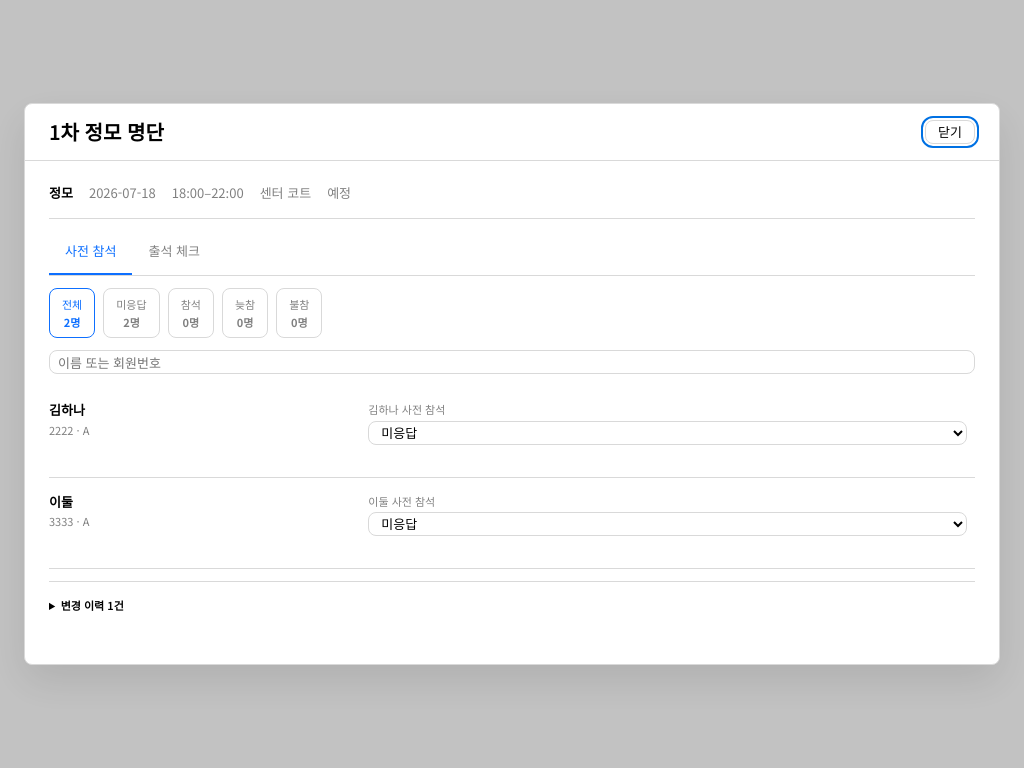
Test case: MeetingRosterModal › keeps the search query across tabs, resets status to all, and can clear a filtered empty state
Type "김하나" into the search field named "명단 회원 검색" at coordinates (512, 362), box left=49, top=350, right=975, bottom=374
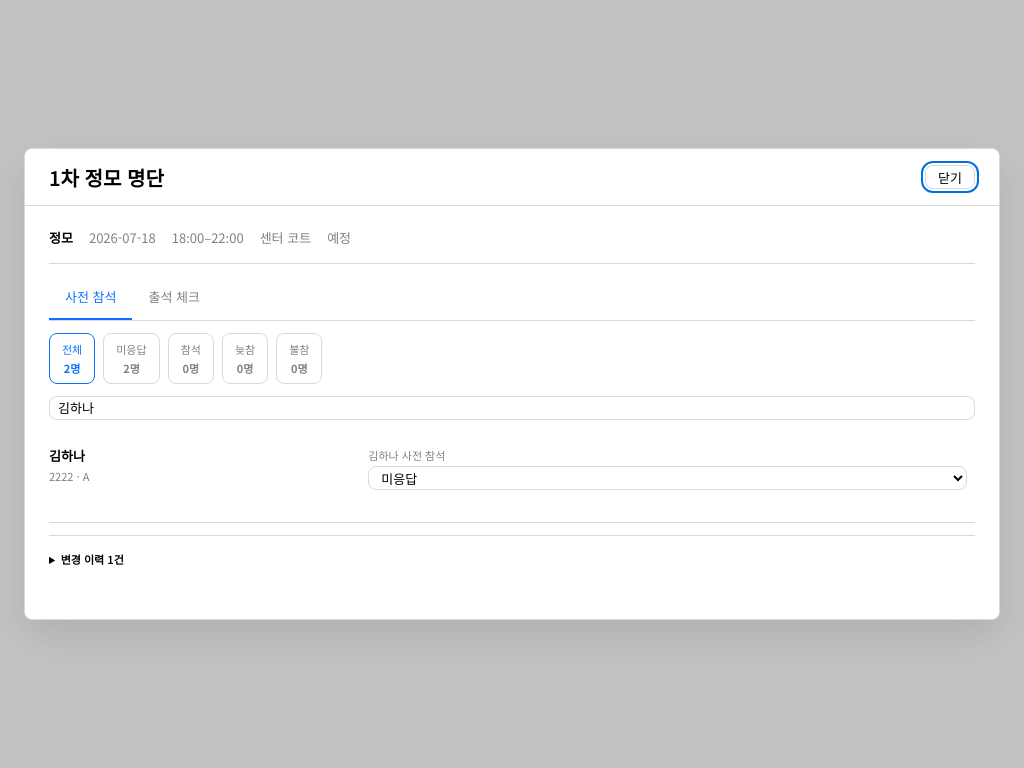
Click the button with aria-label "참석 0명 필터" at coordinates (191, 359), box left=168, top=333, right=214, bottom=384
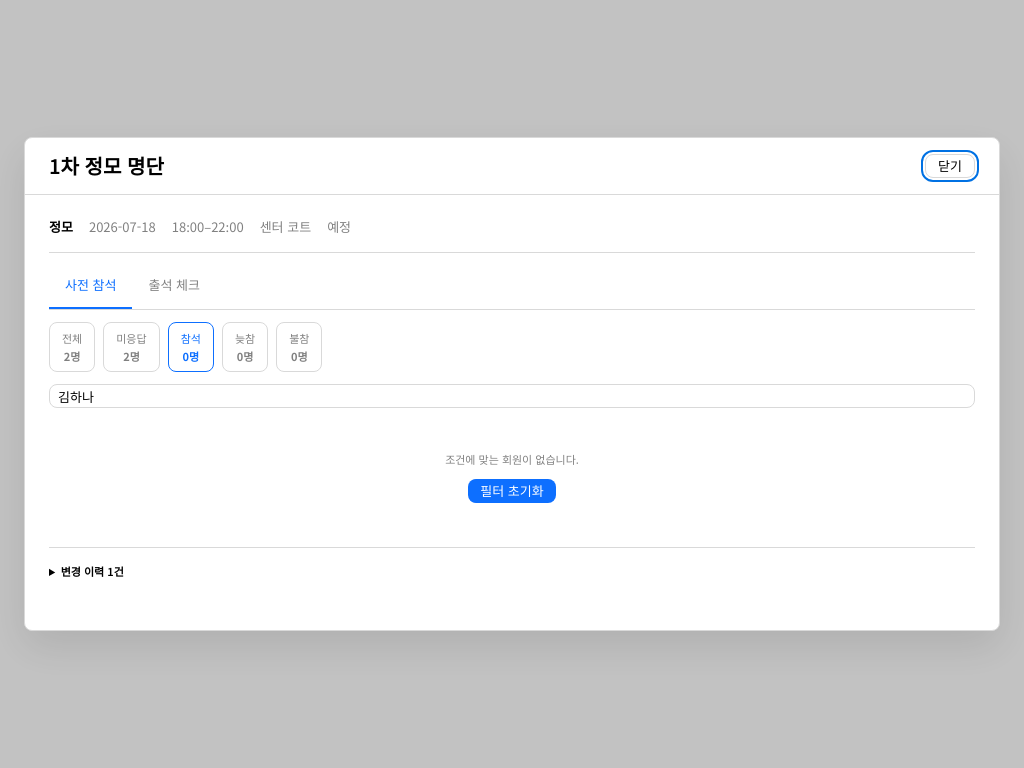
Now the text "조건에 맞는 회원이 없습니다." is shown, box left=445, top=451, right=579, bottom=467
Click the tab "출석 체크" at coordinates (174, 287), box left=132, top=265, right=216, bottom=309
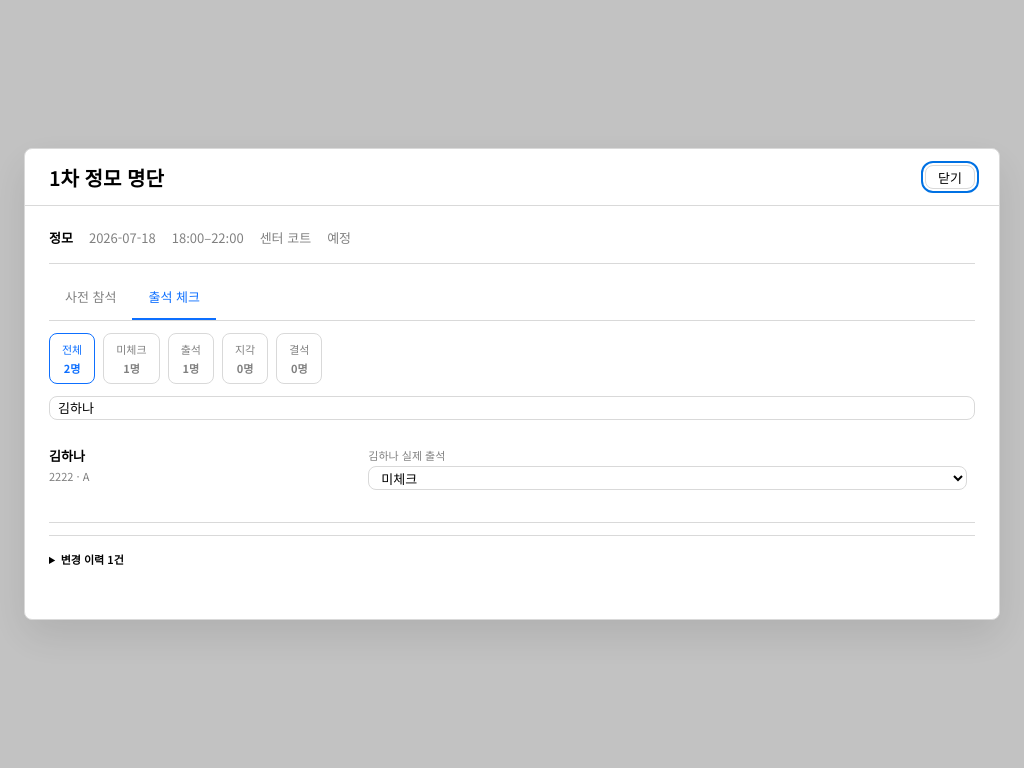
Now the element named "김하나 실제 출석 행" is shown, box left=49, top=432, right=975, bottom=523
Replace the text in the search field named "명단 회원 검색" with "없는 회원" at coordinates (512, 408), box left=49, top=396, right=975, bottom=420
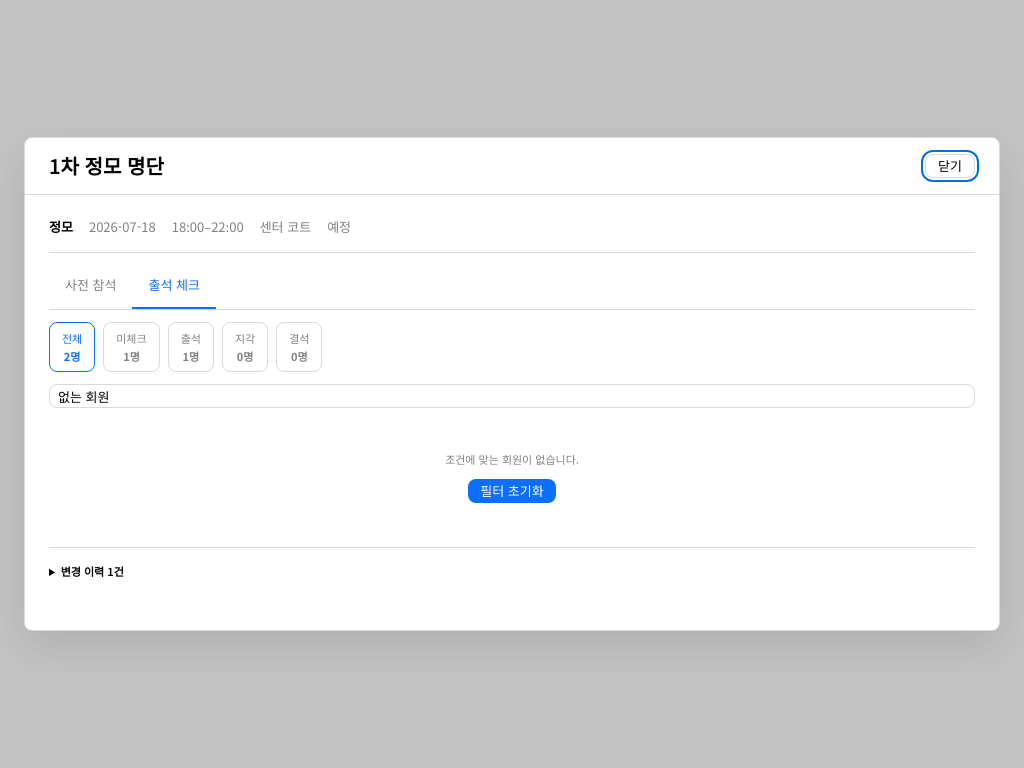
Now the text "조건에 맞는 회원이 없습니다." is shown, box left=445, top=451, right=579, bottom=467
Click the button "필터 초기화" at coordinates (512, 491), box left=468, top=479, right=556, bottom=503
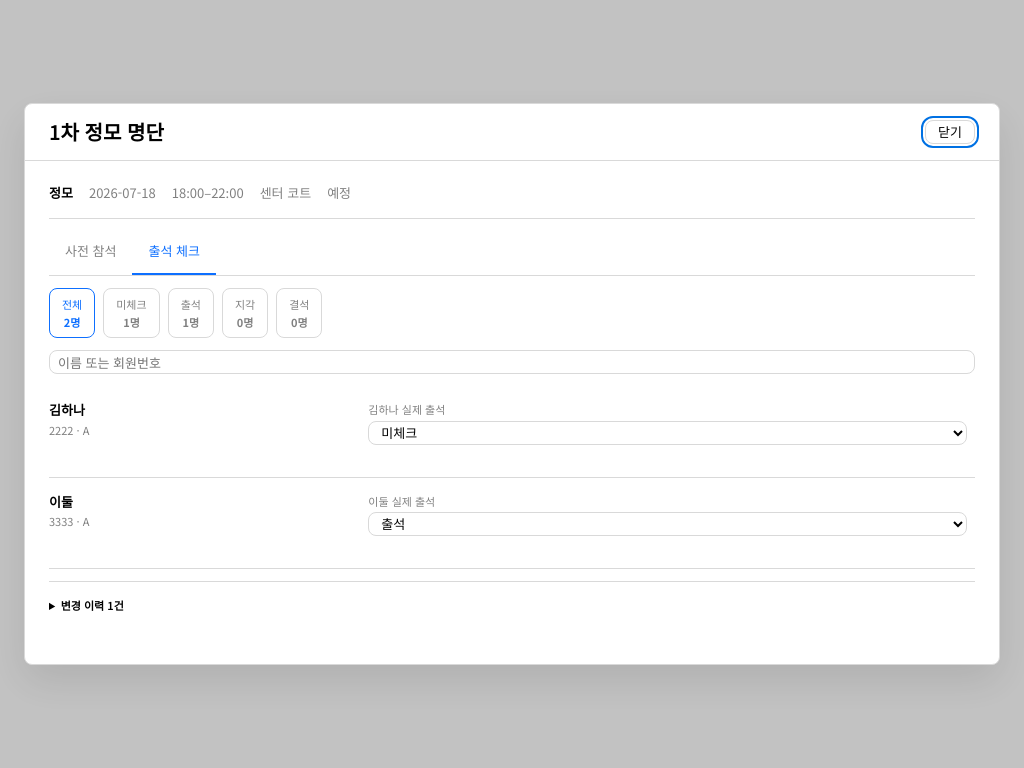
Now the search field named "명단 회원 검색" is empty, box left=49, top=350, right=975, bottom=374
Now the element named "김하나 실제 출석 행" is shown, box left=49, top=386, right=975, bottom=478
Now the element named "이둘 실제 출석 행" is shown, box left=49, top=478, right=975, bottom=569
